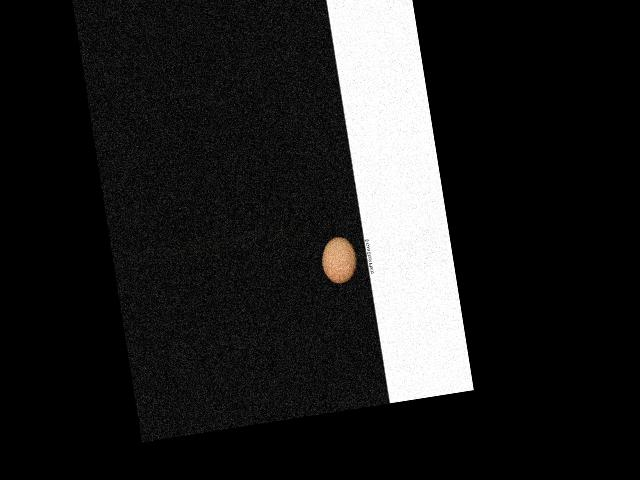egg: (319, 234, 360, 285)
